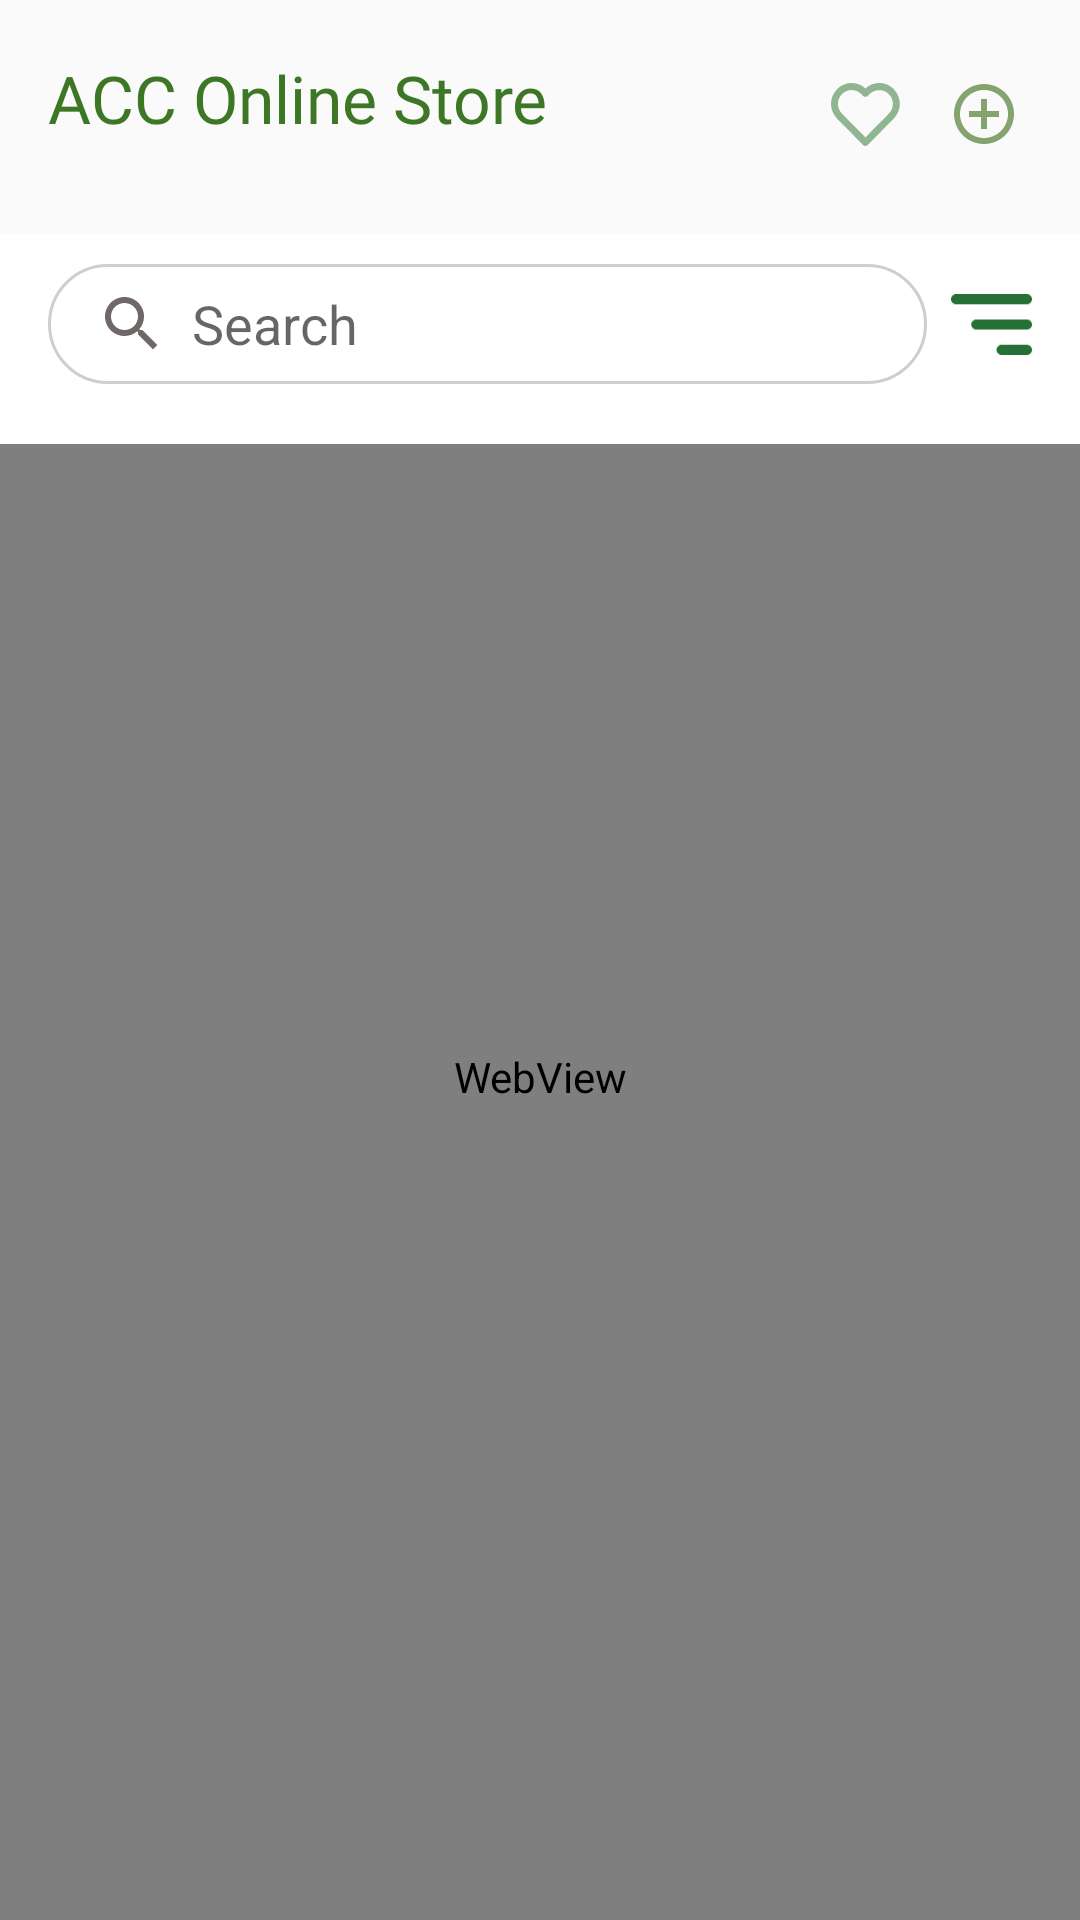

Named icons in this screenshot (1080x1920) and their bounding boxes, (x1, y1, x2, y2):
add circle: (954, 84, 1014, 144)
heart: (831, 83, 900, 146)
short: (951, 294, 1032, 355)
